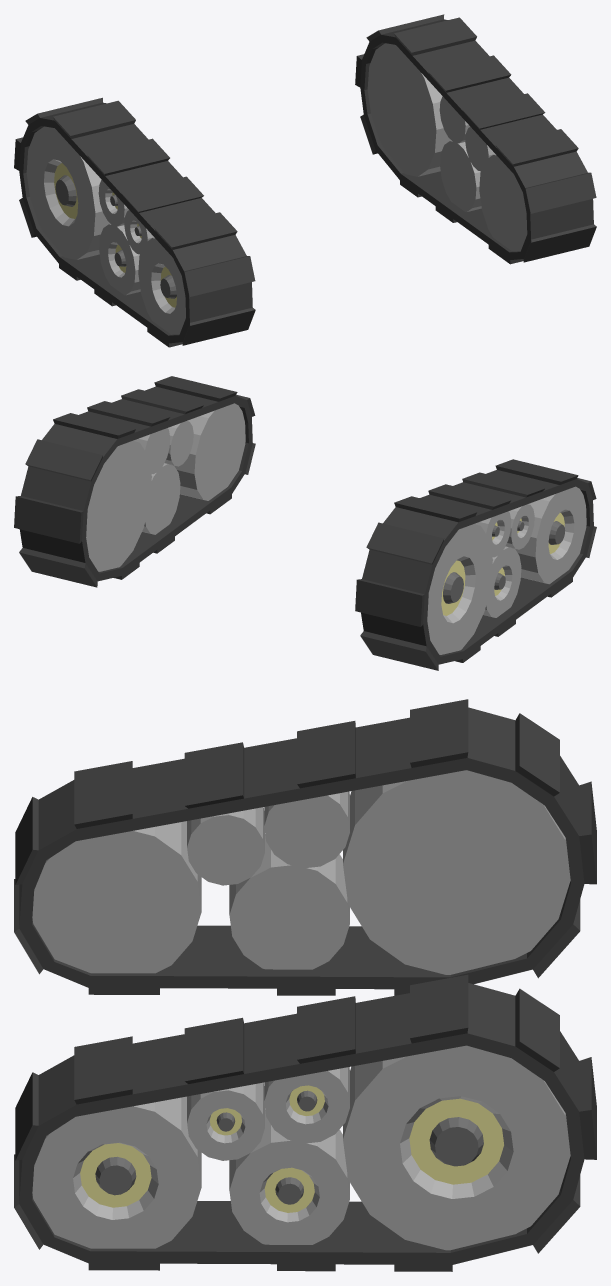
File: legsTreads.fbx
The picture shows the model from 3 angles, top to bottom: view 1: azimuth 30°, elevation 25°; view 2: azimuth 150°, elevation 25°; view 3: azimuth 270°, elevation 25°; orthographic projection. The views are drawn at different scales.
Parts seen in each view (by area): view 1: Legs - Treads; view 2: Legs - Treads; view 3: Legs - Treads.
Boxes of the visible parts, left/top/right/bottom form: Legs - Treads: left=14, top=14, right=596, bottom=347; Legs - Treads: left=14, top=376, right=596, bottom=670; Legs - Treads: left=14, top=699, right=596, bottom=1271.
Bounding box in the file's own units: 119 × 88.94 × 41.29.
